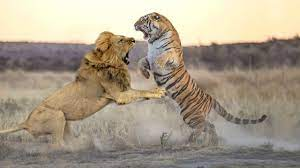lion: (1, 31, 138, 158)
tiger: (134, 10, 270, 147)
